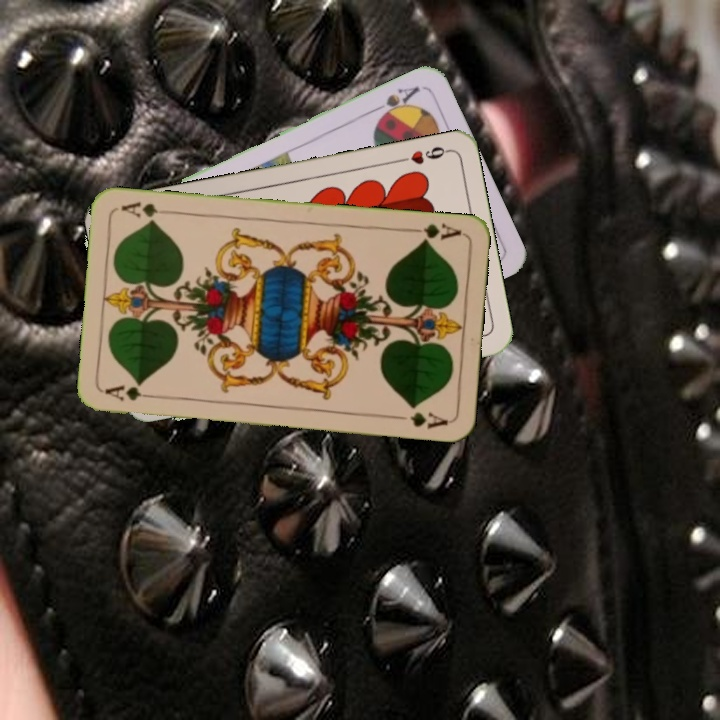GA: (405, 219, 464, 246), (101, 381, 160, 404)
H9: (393, 142, 452, 167)
SA: (368, 82, 423, 123)
